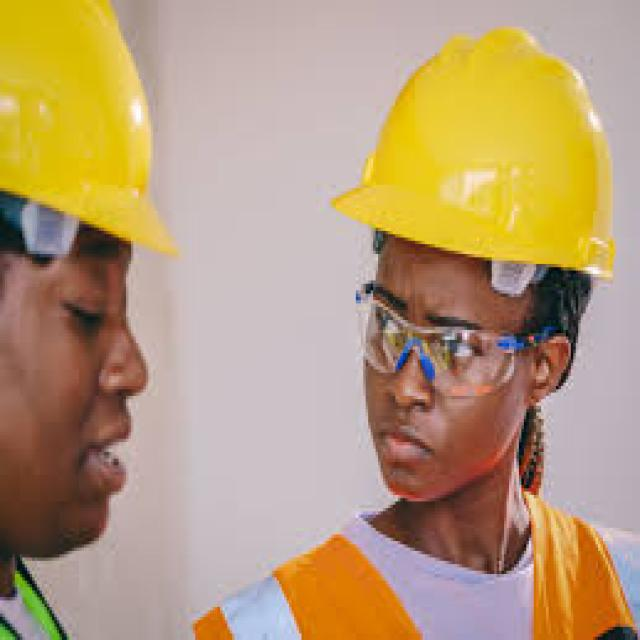glasses: (347, 275, 531, 407)
